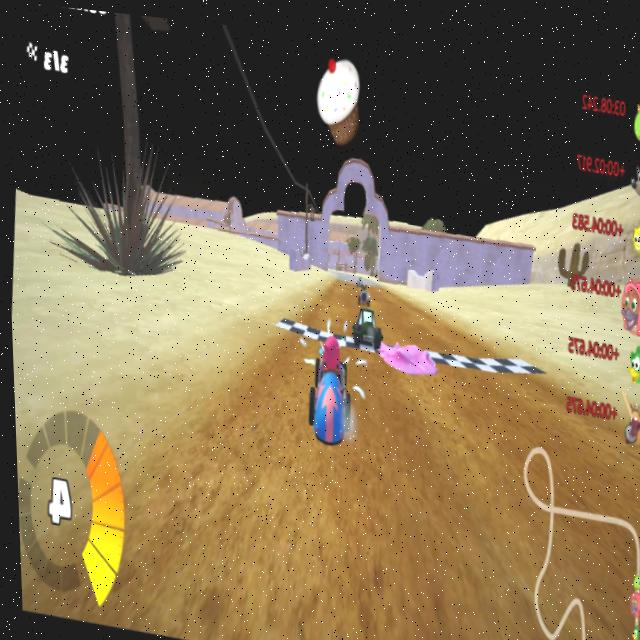enemy_kart: (348, 296, 380, 344), (352, 277, 371, 298)
obstacle: (375, 323, 438, 373)
player_kart: (299, 324, 352, 452)
track: (319, 253, 352, 323)
